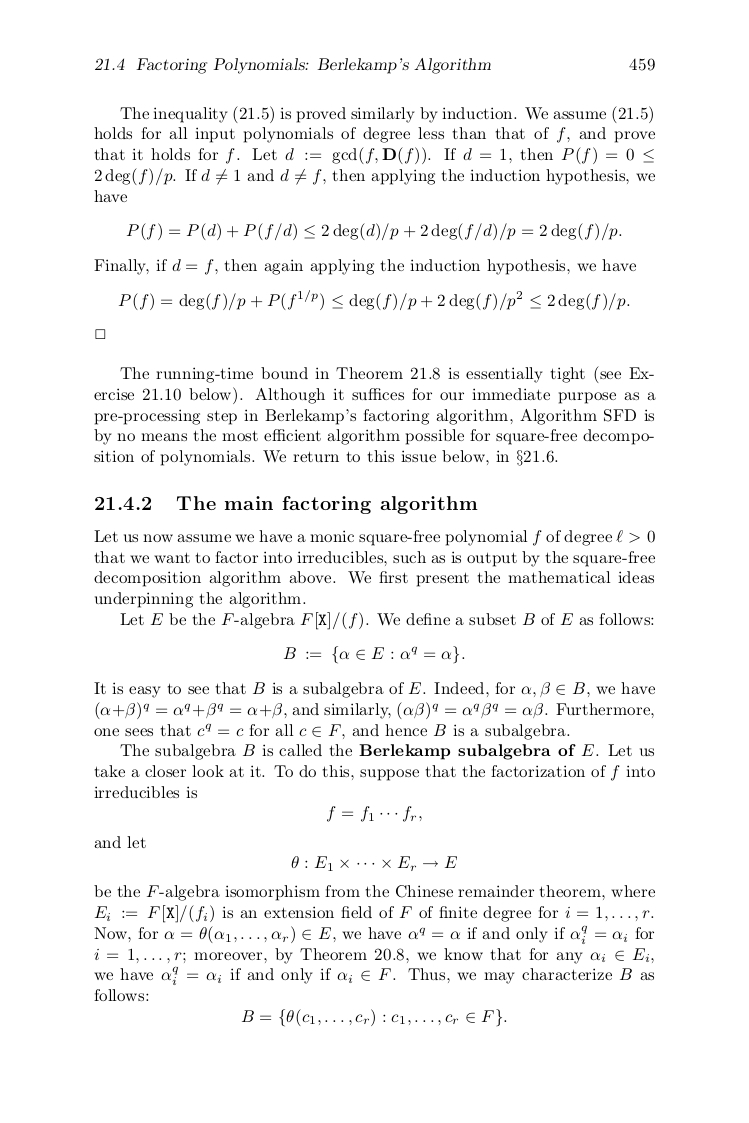formula: (118, 289, 629, 311), (126, 222, 621, 241), (241, 1008, 506, 1027), (283, 645, 464, 664), (291, 855, 456, 871), (327, 805, 421, 822)
